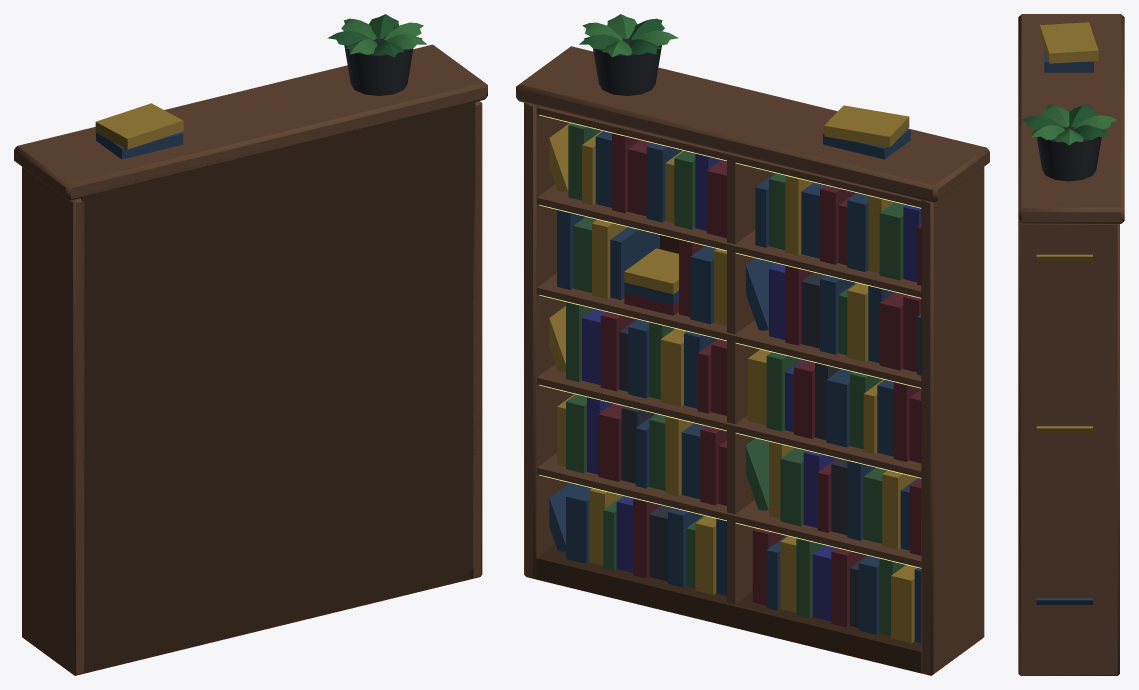
The model's file is bookshelf_v2.glb.
3 renders of one model, left to right at view 1: azimuth 30°, elevation 25°; view 2: azimuth 150°, elevation 25°; view 3: azimuth 270°, elevation 25°, orthographic. The views are drawn at different scales.
Parts seen in each view (by area): view 1: body; view 2: body, lights; view 3: body.
Boxes of the visible parts, box(x1,y1,x2,y2) form: body: box(14, 14, 487, 675); body: box(516, 14, 989, 675); lights: box(539, 115, 921, 568); body: box(1018, 14, 1124, 675).
Bounding box in the file's own units: 2.06 × 2.55 × 0.47.
